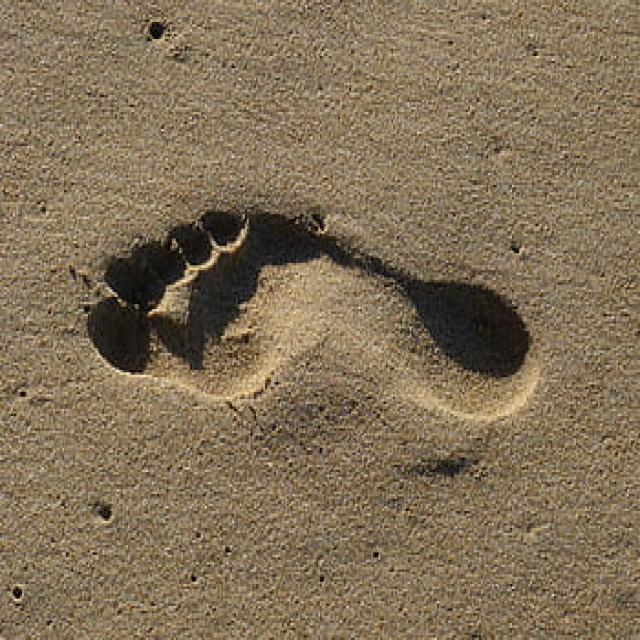human_foot_print: (72, 198, 547, 438)
